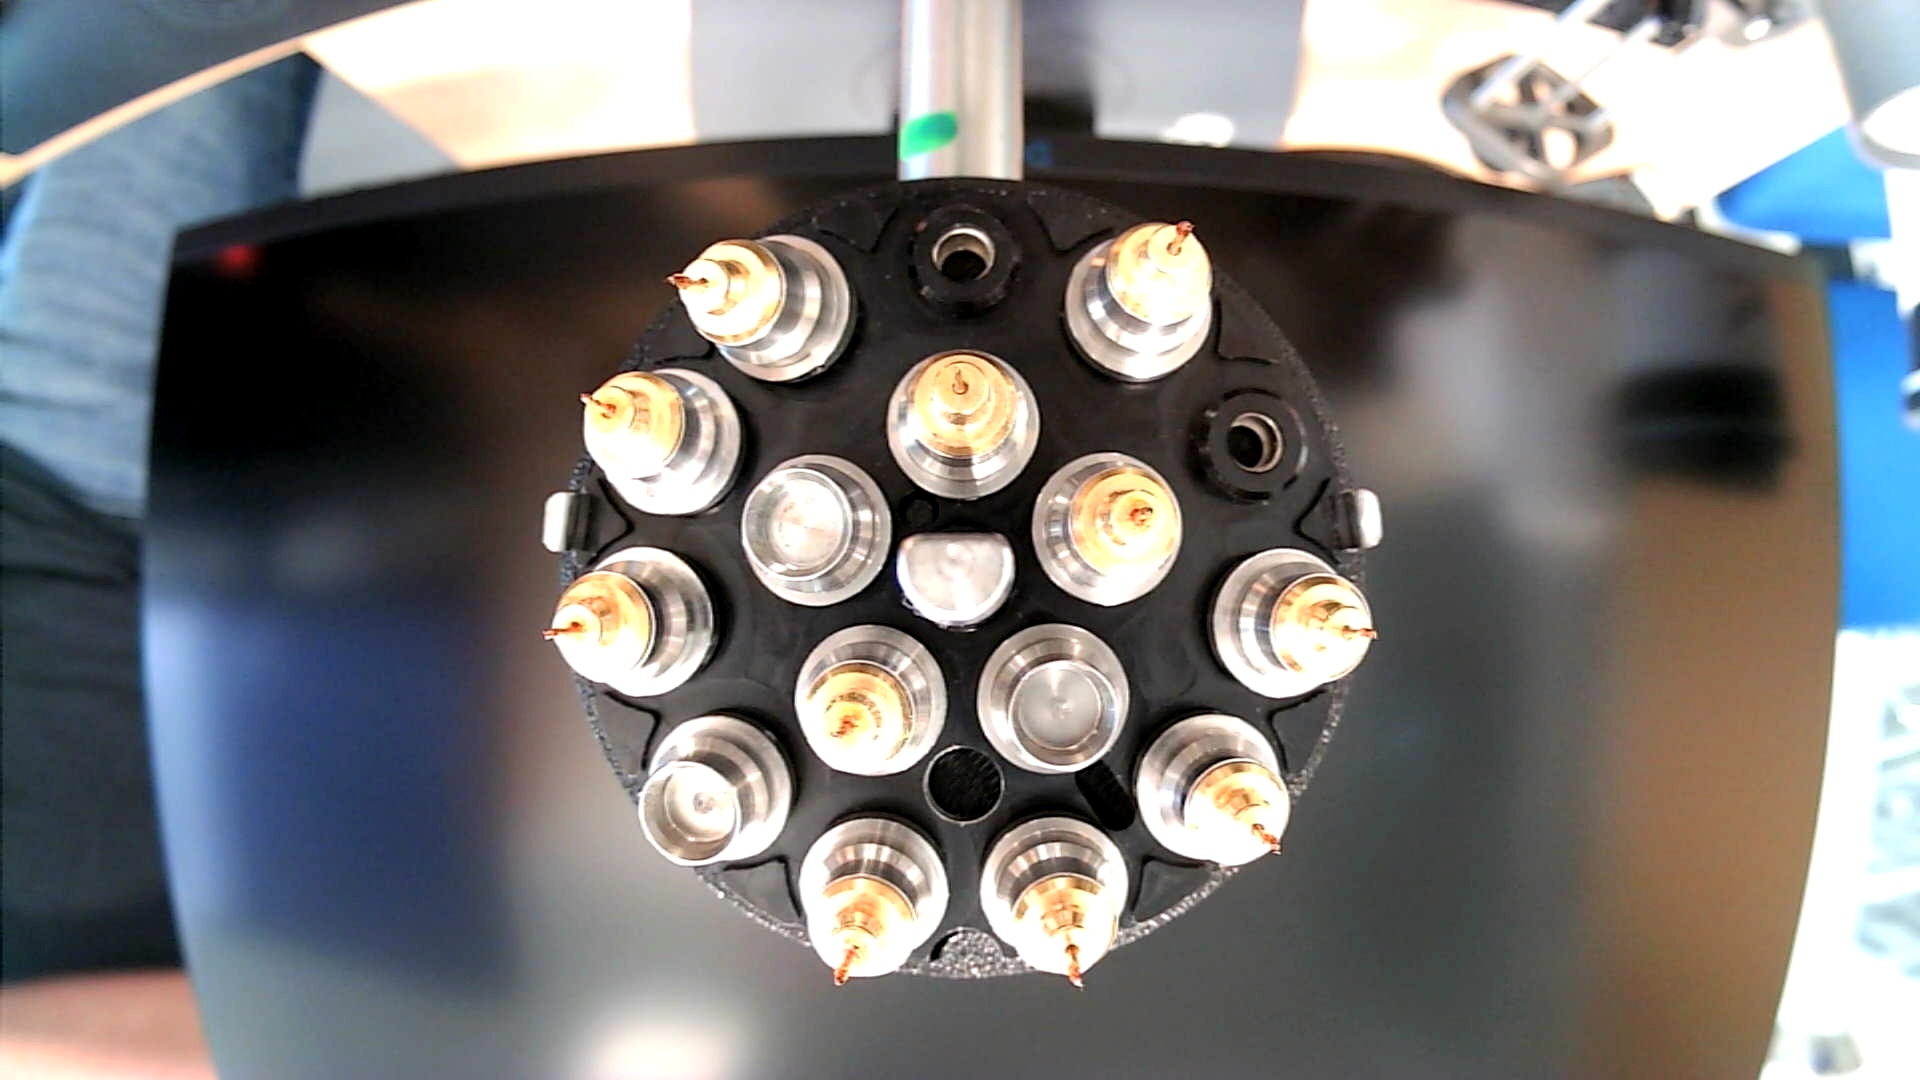adapter: (638, 716, 796, 876), (978, 622, 1133, 781), (740, 455, 894, 613)
empty: (1189, 381, 1315, 506), (899, 203, 1030, 320)
hole: (920, 741, 1010, 829)
misplaced: (665, 235, 855, 386)
pin: (541, 545, 725, 702), (796, 812, 952, 992), (977, 811, 1130, 992), (1207, 546, 1379, 703), (578, 364, 746, 522), (1064, 214, 1215, 385), (1135, 709, 1296, 868), (884, 345, 1044, 502), (793, 624, 952, 781), (1030, 448, 1184, 607)
rod: (890, 527, 1021, 634)
